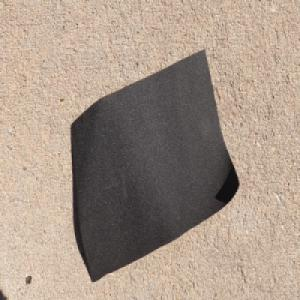PaintChip: (69, 48, 241, 284)
